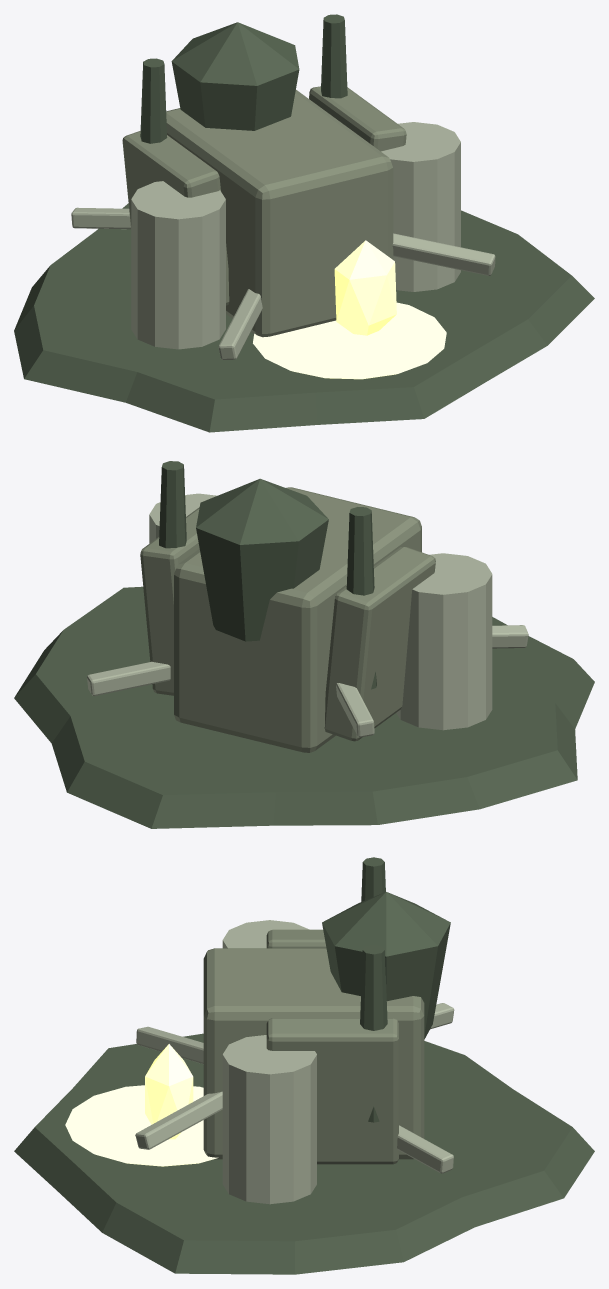
Rendered from toxic-expanse-lod0.glb.
The picture shows the model from 3 angles, top to bottom: view 1: azimuth 30°, elevation 25°; view 2: azimuth 150°, elevation 25°; view 3: azimuth 270°, elevation 25°; orthographic projection. The views are drawn at different scales.
Visible parts, largest first — view 1: STONE_TERRAIN_SOCKET, STONE_REFINERY_NAVE, METAL_REACTOR_TANK_-1, DARK_REFINERY_APSE, METAL_REACTOR_TANK_1, EMISSIVE_TOXIC_RESERVOIR, FX_TOXIC_VAPOR, STONE_NAVE_BUTTRESS_-1, STONE_NAVE_BUTTRESS_1, METAL_COLLAPSED_GANTRY_3, METAL_SMOKE_STACK_-1, METAL_SMOKE_STACK_1 (+2 smaller); view 2: STONE_TERRAIN_SOCKET, STONE_REFINERY_NAVE, DARK_REFINERY_APSE, METAL_REACTOR_TANK_-1, STONE_NAVE_BUTTRESS_-1, STONE_NAVE_BUTTRESS_1, METAL_SMOKE_STACK_-1, METAL_SMOKE_STACK_1, METAL_COLLAPSED_GANTRY_0, METAL_COLLAPSED_GANTRY_1, METAL_COLLAPSED_GANTRY_2, METAL_REACTOR_TANK_1; view 3: STONE_TERRAIN_SOCKET, STONE_REFINERY_NAVE, METAL_REACTOR_TANK_1, STONE_NAVE_BUTTRESS_1, DARK_REFINERY_APSE, EMISSIVE_TOXIC_RESERVOIR, FX_TOXIC_VAPOR, METAL_SMOKE_STACK_1, METAL_COLLAPSED_GANTRY_3, METAL_REACTOR_TANK_-1, METAL_COLLAPSED_GANTRY_0, METAL_COLLAPSED_GANTRY_2 (+2 smaller).
Boxes of the visible parts, <box> form: STONE_TERRAIN_SOCKET: <box>14,203,594,432</box>; STONE_REFINERY_NAVE: <box>166,90,393,337</box>; METAL_REACTOR_TANK_-1: <box>131,181,225,349</box>; DARK_REFINERY_APSE: <box>171,22,299,130</box>; METAL_REACTOR_TANK_1: <box>381,122,460,291</box>; EMISSIVE_TOXIC_RESERVOIR: <box>253,302,446,379</box>; FX_TOXIC_VAPOR: <box>334,240,396,335</box>; STONE_NAVE_BUTTRESS_-1: <box>122,131,229,305</box>; STONE_NAVE_BUTTRESS_1: <box>309,86,406,151</box>; METAL_COLLAPSED_GANTRY_3: <box>392,233,495,275</box>; METAL_SMOKE_STACK_-1: <box>140,58,167,143</box>; METAL_SMOKE_STACK_1: <box>321,14,347,98</box>; STONE_TERRAIN_SOCKET: <box>14,586,594,828</box>; STONE_REFINERY_NAVE: <box>174,487,421,752</box>; DARK_REFINERY_APSE: <box>196,478,328,641</box>; METAL_REACTOR_TANK_-1: <box>396,553,492,730</box>; STONE_NAVE_BUTTRESS_-1: <box>324,546,435,741</box>; STONE_NAVE_BUTTRESS_1: <box>140,507,199,695</box>; METAL_SMOKE_STACK_-1: <box>346,507,376,689</box>; METAL_SMOKE_STACK_1: <box>159,461,186,548</box>; METAL_COLLAPSED_GANTRY_0: <box>87,661,170,696</box>; METAL_COLLAPSED_GANTRY_1: <box>336,683,374,737</box>; METAL_COLLAPSED_GANTRY_2: <box>492,625,528,648</box>; METAL_REACTOR_TANK_1: <box>149,493,216,543</box>; STONE_TERRAIN_SOCKET: <box>14,1033,594,1274</box>; STONE_REFINERY_NAVE: <box>203,948,424,1159</box>; METAL_REACTOR_TANK_1: <box>222,1035,316,1204</box>; STONE_NAVE_BUTTRESS_1: <box>266,1018,398,1164</box>; DARK_REFINERY_APSE: <box>322,892,450,1039</box>; EMISSIVE_TOXIC_RESERVOIR: <box>65,1085,218,1166</box>; FX_TOXIC_VAPOR: <box>145,1044,193,1139</box>; METAL_SMOKE_STACK_1: <box>360,945,387,1122</box>; METAL_COLLAPSED_GANTRY_3: <box>135,1091,222,1149</box>; METAL_REACTOR_TANK_-1: <box>222,920,309,948</box>; METAL_COLLAPSED_GANTRY_0: <box>397,1125,453,1173</box>; METAL_COLLAPSED_GANTRY_2: <box>136,1026,203,1063</box>.
Size of the model in its own units: 1.88 by 0.9096 by 1.85.
